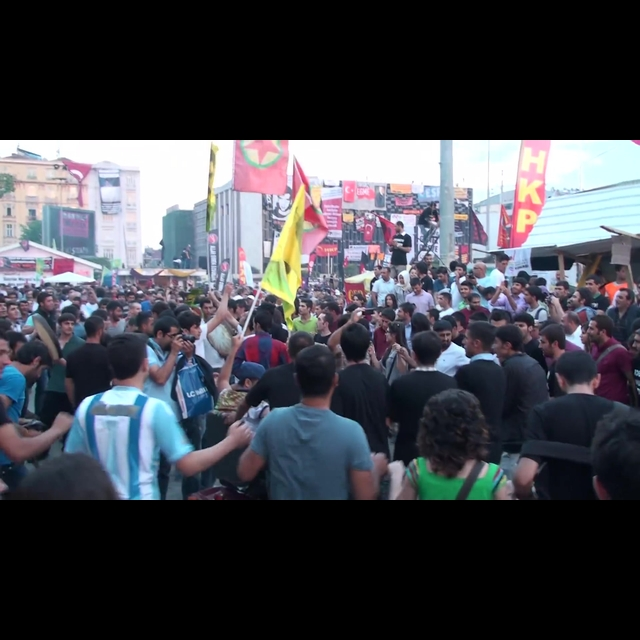PKK: (238, 139, 285, 172)
